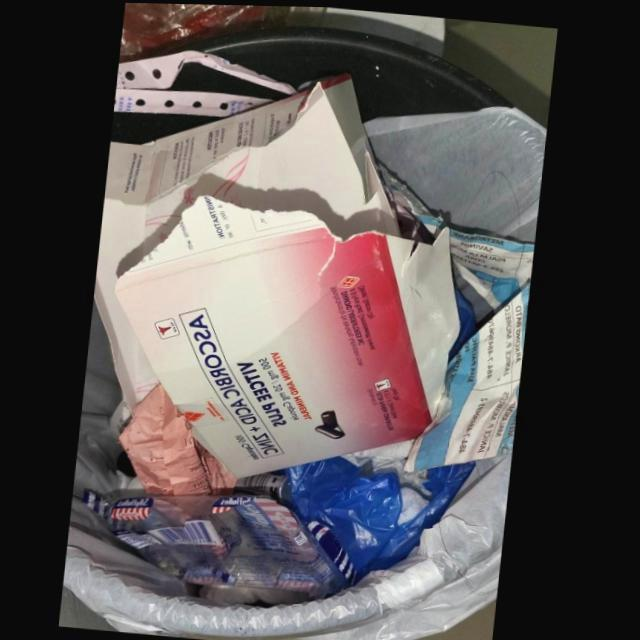cardboard: (95, 72, 463, 478)
food_wrapper: (86, 491, 351, 599)
paper: (408, 281, 533, 470), (451, 227, 537, 306), (407, 202, 442, 231)
plastic_bag: (282, 454, 479, 584)
